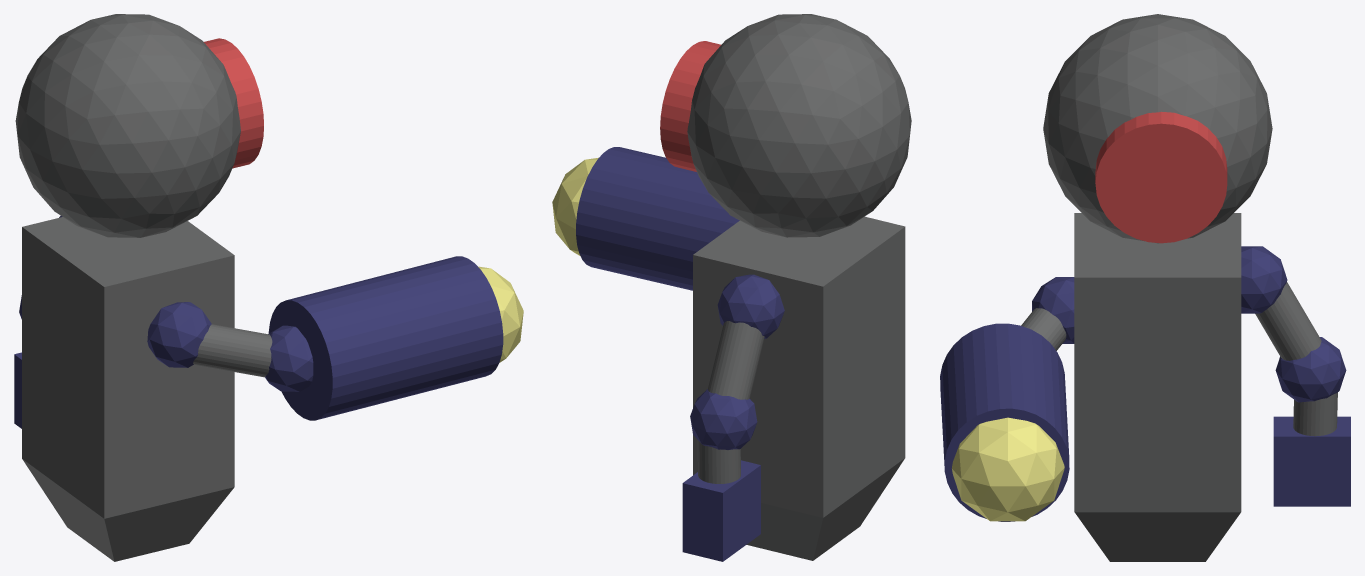
File: TestModel.fbx
3 views of the same model, side by side, from view 1: azimuth 30°, elevation 25°; view 2: azimuth 150°, elevation 25°; view 3: azimuth 270°, elevation 25° (orthographic).
Visible parts, largest first — view 1: Icosphere; view 2: Icosphere; view 3: Icosphere.
Part boxes in pixels (x1=…): Icosphere: x1=14, y1=14, x2=523, y2=561; Icosphere: x1=552, y1=14, x2=911, y2=561; Icosphere: x1=940, y1=14, x2=1350, y2=561.
Size of the model in its own units: 3.58 by 4.19 by 4.99.
